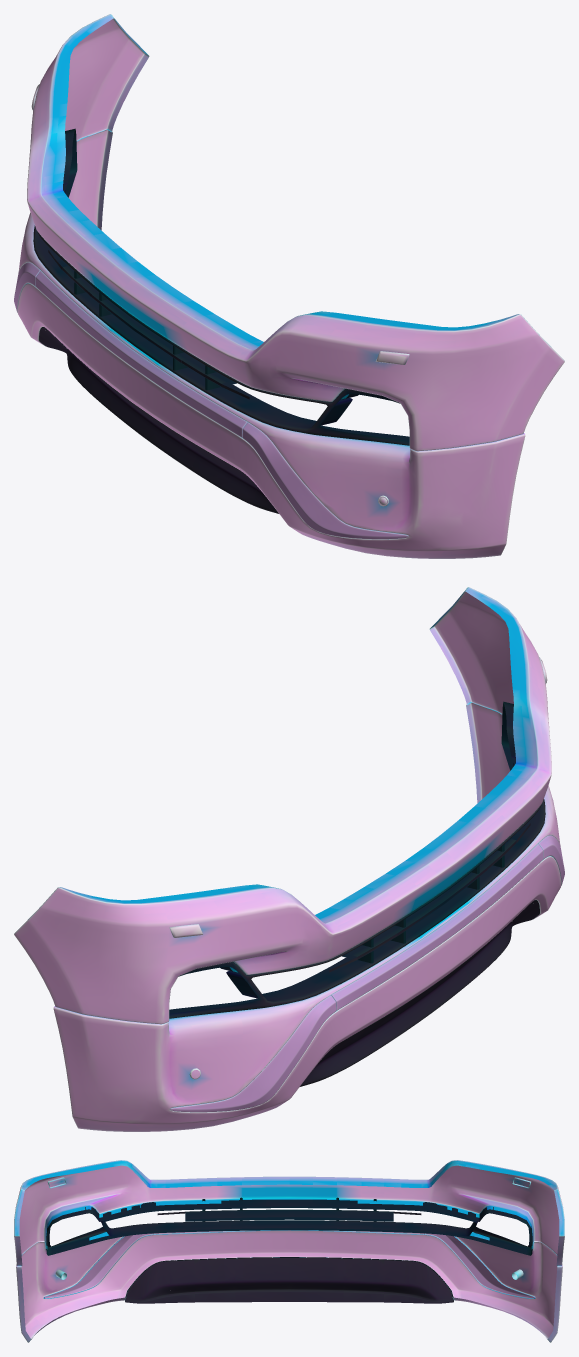
The model's file is bumper_front_plate_clean.glb.
3 renders of one model, top to bottom at view 1: azimuth 30°, elevation 25°; view 2: azimuth 150°, elevation 25°; view 3: azimuth 270°, elevation 25°, orthographic. The views are drawn at different scales.
Parts seen in each view (by area): view 1: carpaint_6, bumper_chrome01_5, black_11, bumper_black_13, black_12; view 2: carpaint_6, bumper_chrome01_5, black_11, bumper_black_13, black_12; view 3: carpaint_6, bumper_black_13, black_11, bumper_chrome01_5, black_12, carpaint_7.
Part boxes in pixels (left/top/right/bottom): carpaint_6: left=17, top=14, right=564, bottom=558; bumper_chrome01_5: left=14, top=262, right=408, bottom=539; black_11: left=33, top=128, right=409, bottom=445; bumper_black_13: left=39, top=327, right=278, bottom=513; black_12: left=48, top=250, right=249, bottom=399; carpaint_6: left=14, top=587, right=561, bottom=1131; bumper_chrome01_5: left=170, top=835, right=564, bottom=1112; black_11: left=169, top=701, right=545, bottom=1018; bumper_black_13: left=300, top=900, right=539, bottom=1086; black_12: left=329, top=823, right=530, bottom=972; carpaint_6: left=14, top=1160, right=564, bottom=1342; bumper_black_13: left=125, top=1257, right=453, bottom=1303; black_11: left=46, top=1199, right=532, bottom=1255; bumper_chrome01_5: left=43, top=1230, right=535, bottom=1298; black_12: left=157, top=1197, right=421, bottom=1221; carpaint_7: left=47, top=1177, right=530, bottom=1279.
Size of what is drawn, in the model's own units: 0.6279 by 0.6237 by 1.96.
